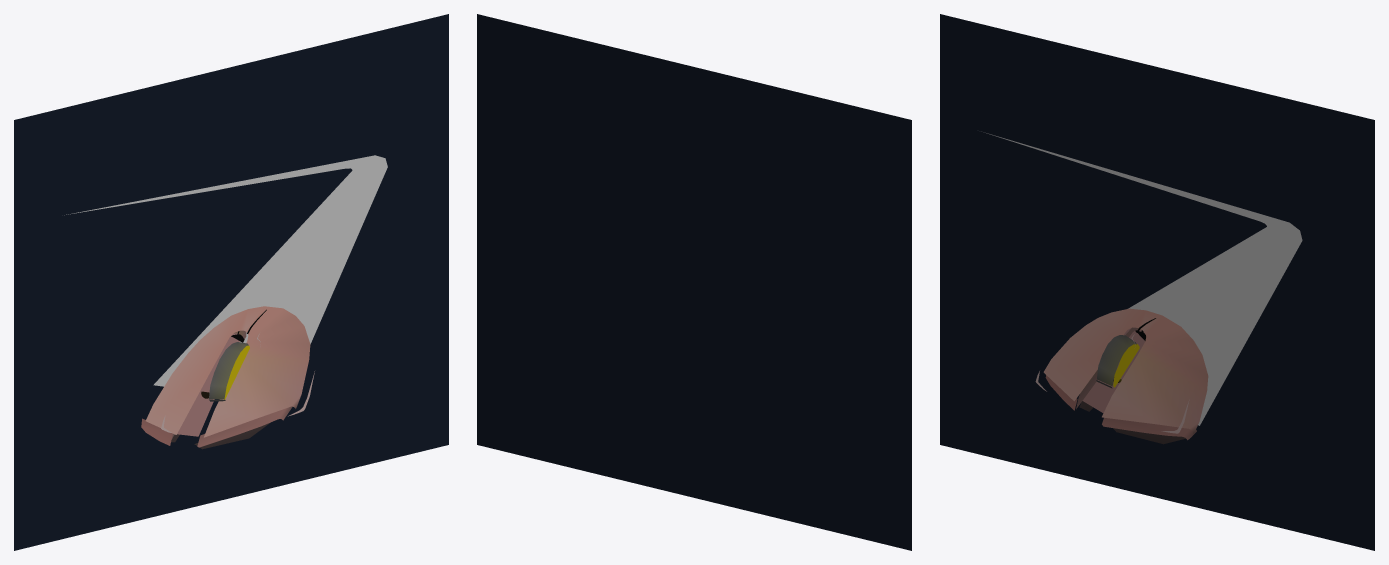
3 views of the same model, side by side, from view 1: azimuth 30°, elevation 25°; view 2: azimuth 150°, elevation 25°; view 3: azimuth 330°, elevation 25° (orthographic).
Visible parts, largest first — view 1: polySurface1; view 2: polySurface1; view 3: polySurface1.
Boxes of the visible parts, x1,y1,x2,y2 form: polySurface1: (14, 14, 448, 550); polySurface1: (477, 14, 911, 550); polySurface1: (940, 14, 1374, 550).
Size of the model in its own units: 73.24 by 69.38 by 7.51.
